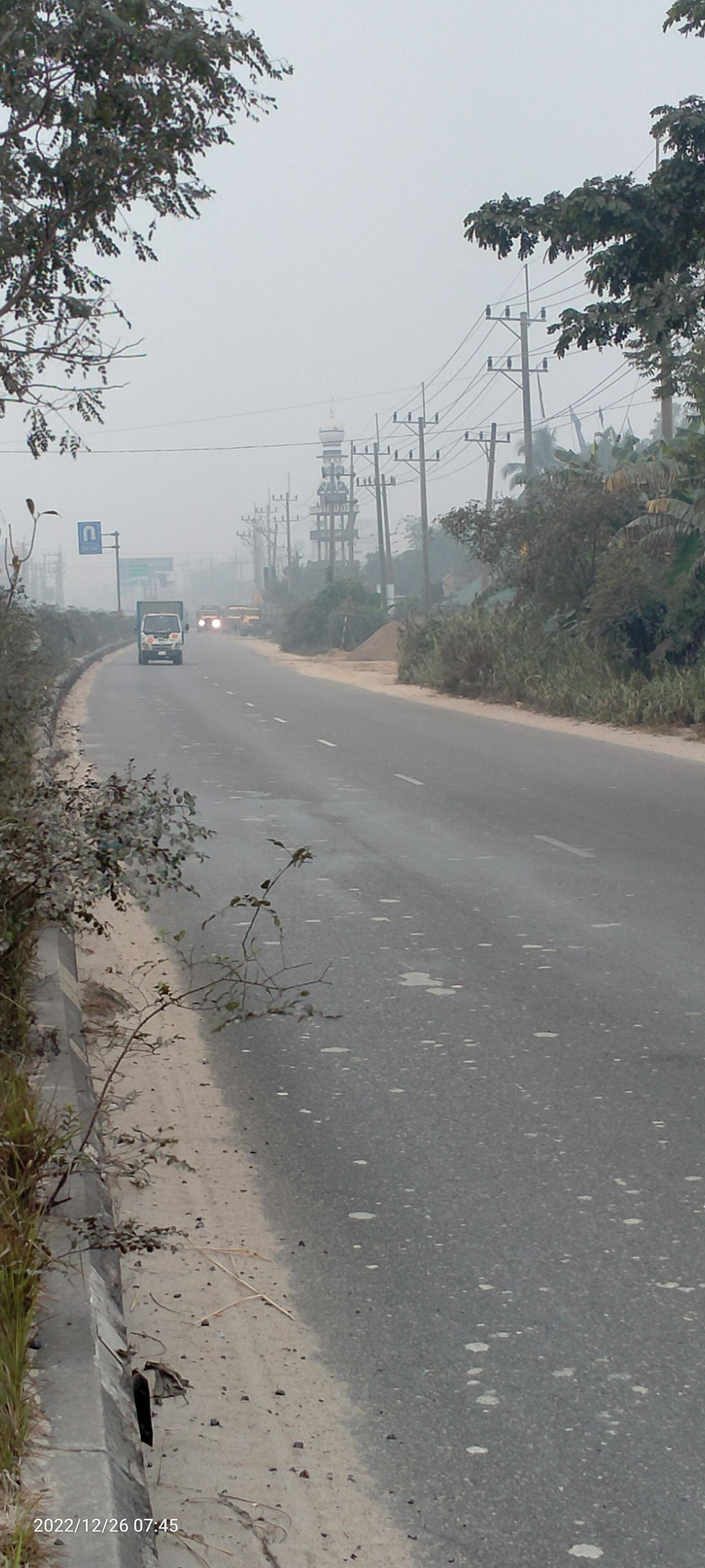Truck: (129, 599, 197, 666), (189, 601, 227, 633), (237, 606, 265, 639)
